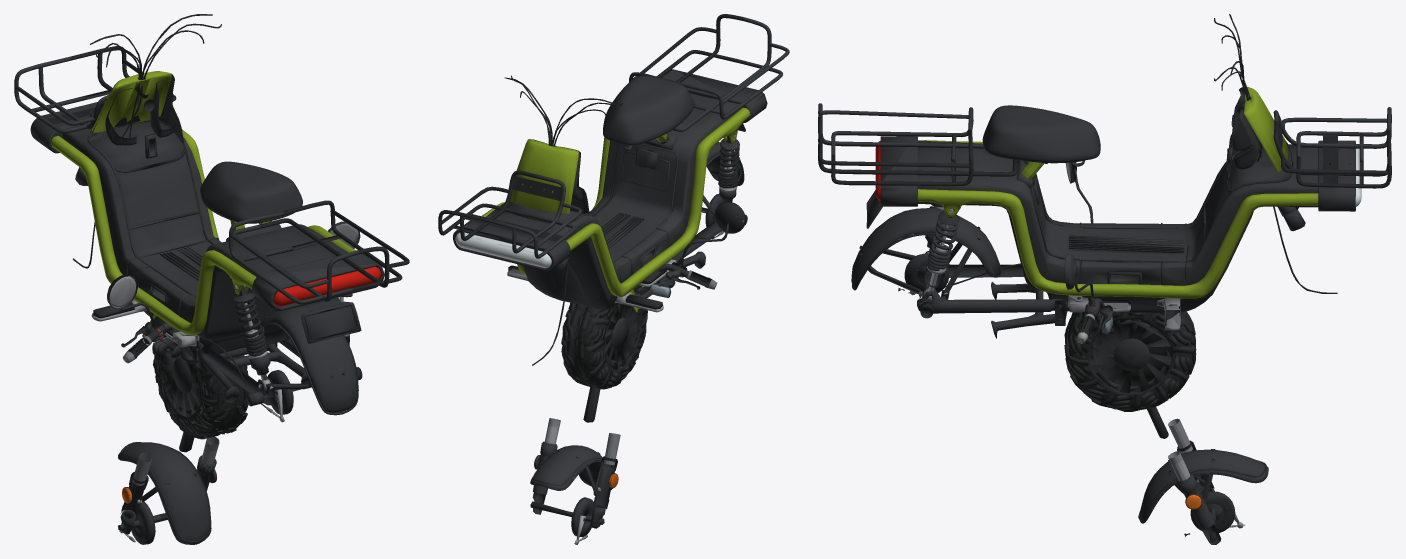
File: DeliveryScooter.fbx
3 views of the same model, side by side, from view 1: azimuth 30°, elevation 25°; view 2: azimuth 150°, elevation 25°; view 3: azimuth 270°, elevation 25° (orthographic). The views are drawn at different scales.
Visible parts, largest first — view 1: scooter_Body, scooter_FenderFront, scooter_CargoRear, scooter_Seat, scooter_WheelRear, scooter_Panel, scooter_Steering, scooter_Fork, scooter_CargoFront, scooter_WheelFront, scooter_RearSuspension, scooter_Headlight (+3 smaller); view 2: scooter_Body, scooter_Seat, scooter_WheelRear, scooter_Panel, scooter_WheelFront, scooter_CargoRear, scooter_Fork, scooter_CargoFront, scooter_Headlight, scooter_FenderFront, scooter_Steering, scooter_BrakeFront (+1 smaller); view 3: scooter_Body, scooter_WheelRear, scooter_Seat, scooter_CargoRear, scooter_WheelFront, scooter_CargoFront, scooter_FenderFront, scooter_Panel, scooter_Fork, scooter_Headlight, scooter_Steering, scooter_RearSuspension (+2 smaller).
Part boxes in pixels (left/top/right/bottom): scooter_Body: left=31, top=14, right=384, bottom=412; scooter_FenderFront: left=118, top=442, right=211, bottom=544; scooter_CargoRear: left=228, top=200, right=409, bottom=304; scooter_Seat: left=200, top=161, right=302, bottom=223; scooter_WheelRear: left=152, top=335, right=248, bottom=439; scooter_Panel: left=89, top=71, right=184, bottom=145; scooter_Steering: left=107, top=221, right=360, bottom=363; scooter_Fork: left=118, top=432, right=219, bottom=534; scooter_CargoFront: left=14, top=46, right=176, bottom=133; scooter_WheelFront: left=153, top=336, right=248, bottom=439; scooter_RearSuspension: left=233, top=285, right=362, bottom=406; scooter_Headlight: left=30, top=101, right=105, bottom=153; scooter_Body: left=454, top=69, right=767, bottom=365; scooter_Seat: left=603, top=75, right=694, bottom=145; scooter_WheelRear: left=561, top=286, right=647, bottom=389; scooter_Panel: left=507, top=139, right=589, bottom=214; scooter_WheelFront: left=561, top=286, right=647, bottom=389; scooter_CargoRear: left=629, top=14, right=789, bottom=131; scooter_Fork: left=530, top=386, right=620, bottom=528; scooter_CargoFront: left=438, top=170, right=582, bottom=258; scooter_Headlight: left=453, top=220, right=570, bottom=271; scooter_FenderFront: left=530, top=445, right=612, bottom=490; scooter_Steering: left=628, top=202, right=745, bottom=308; scooter_BrakeFront: left=571, top=497, right=593, bottom=544; scooter_Body: left=851, top=14, right=1363, bottom=338; scooter_WheelRear: left=1064, top=312, right=1195, bottom=411; scooter_Seat: left=982, top=105, right=1100, bottom=163; scooter_CargoRear: left=818, top=103, right=1017, bottom=185; scooter_WheelFront: left=1064, top=311, right=1196, bottom=411; scooter_CargoFront: left=1273, top=107, right=1391, bottom=188; scooter_FenderFront: left=1138, top=449, right=1268, bottom=523; scooter_Panel: left=1228, top=87, right=1291, bottom=188; scooter_Fork: left=1147, top=407, right=1221, bottom=544; scooter_Headlight: left=1318, top=140, right=1361, bottom=211; scooter_Steering: left=1064, top=162, right=1114, bottom=343; scooter_RearSuspension: left=859, top=206, right=959, bottom=318.
Bounding box in the file's own units: 10.76 × 20.61 × 21.46.
